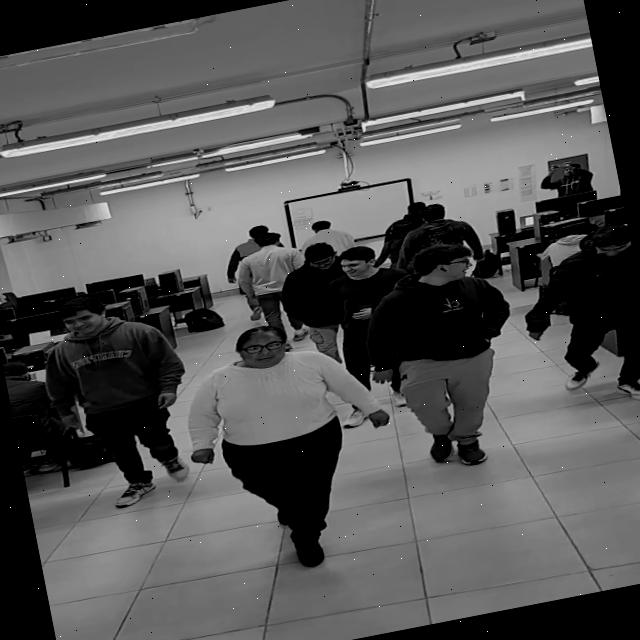Persona: (171, 306, 406, 592), (354, 237, 533, 484), (28, 278, 197, 520), (516, 217, 640, 422), (316, 238, 411, 416), (230, 226, 310, 331)
